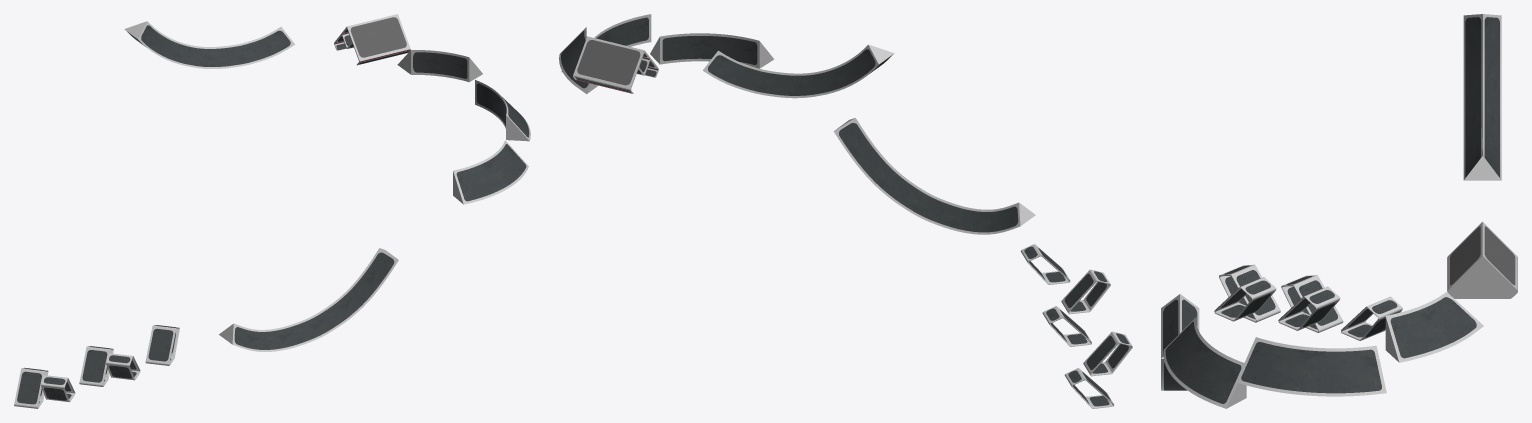
The model's file is surf_skyworld3_preview.fbx.
3 renders of one model, left to right at view 1: azimuth 30°, elevation 25°; view 2: azimuth 150°, elevation 25°; view 3: azimuth 270°, elevation 25°, orthographic. The views are drawn at different scales.
Visible parts, largest first — view 1: surf_skyworld3.011; view 2: surf_skyworld3.011; view 3: surf_skyworld3.011.
Part boxes in pixels (bbox=[...]): surf_skyworld3.011: bbox=[14, 14, 530, 408]; surf_skyworld3.011: bbox=[559, 14, 1132, 408]; surf_skyworld3.011: bbox=[1161, 14, 1517, 408].
Size of the model in its own units: 6167 by 3742 by 2834.
